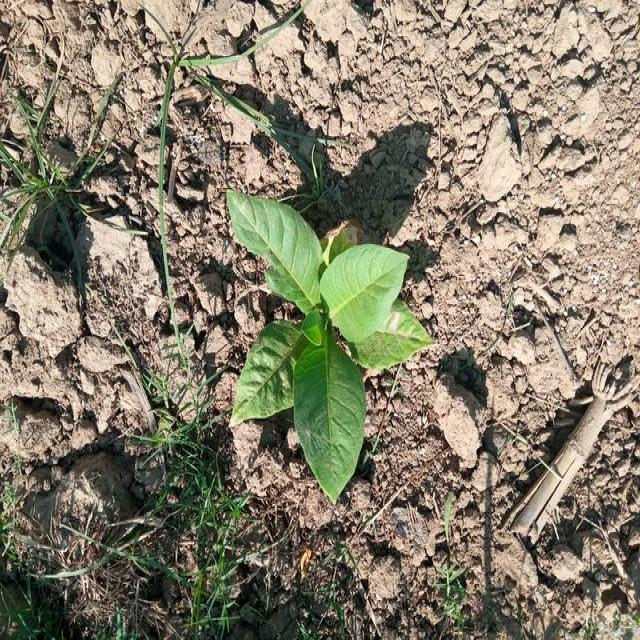crop: (228, 184, 421, 489)
